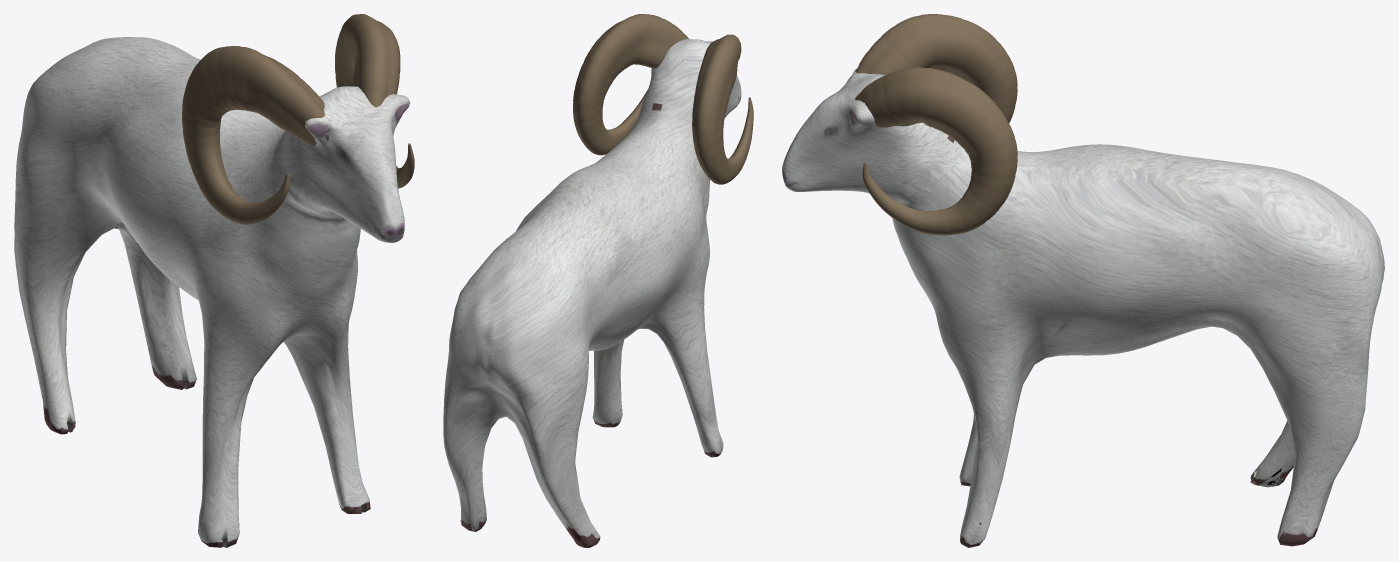
The model's file is bighorn-rest-review.glb.
3 views of the same model, side by side, from view 1: azimuth 30°, elevation 25°; view 2: azimuth 150°, elevation 25°; view 3: azimuth 270°, elevation 25° (orthographic). The views are drawn at different scales.
Visible parts, largest first — view 1: p0ss_Sheep2_whole_body_bighorn_adaptation_rest_bake, Bighorn_horn_-1_rest_bake, Bighorn_horn_1_rest_bake; view 2: p0ss_Sheep2_whole_body_bighorn_adaptation_rest_bake, Bighorn_horn_1_rest_bake, Bighorn_horn_-1_rest_bake; view 3: p0ss_Sheep2_whole_body_bighorn_adaptation_rest_bake, Bighorn_horn_1_rest_bake, Bighorn_horn_-1_rest_bake.
Boxes of the visible parts, bbox=[...] form: p0ss_Sheep2_whole_body_bighorn_adaptation_rest_bake: bbox=[14, 37, 410, 547]; Bighorn_horn_-1_rest_bake: bbox=[182, 46, 328, 224]; Bighorn_horn_1_rest_bake: bbox=[335, 14, 414, 188]; p0ss_Sheep2_whole_body_bighorn_adaptation_rest_bake: bbox=[443, 39, 741, 547]; Bighorn_horn_1_rest_bake: bbox=[573, 14, 688, 155]; Bighorn_horn_-1_rest_bake: bbox=[692, 34, 753, 184]; p0ss_Sheep2_whole_body_bighorn_adaptation_rest_bake: bbox=[782, 69, 1384, 547]; Bighorn_horn_1_rest_bake: bbox=[855, 67, 1017, 235]; Bighorn_horn_-1_rest_bake: bbox=[855, 14, 1017, 123].
Bounding box in the file's own units: 0.4441 × 1.19 × 1.37.
2 materials, 1 textured.
